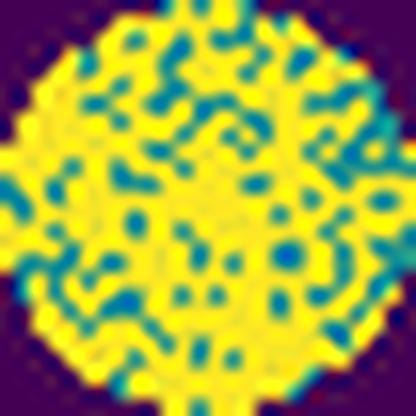Edge-Ring: (0, 0, 379, 416)
